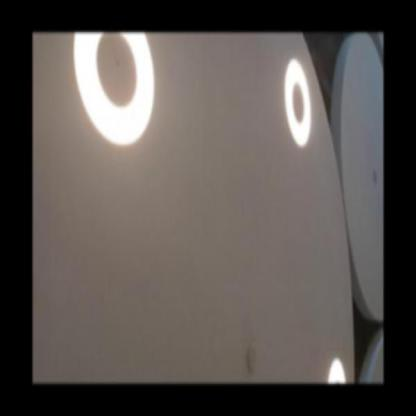light_on: (66, 32, 164, 161), (276, 43, 314, 149), (323, 340, 349, 383)
